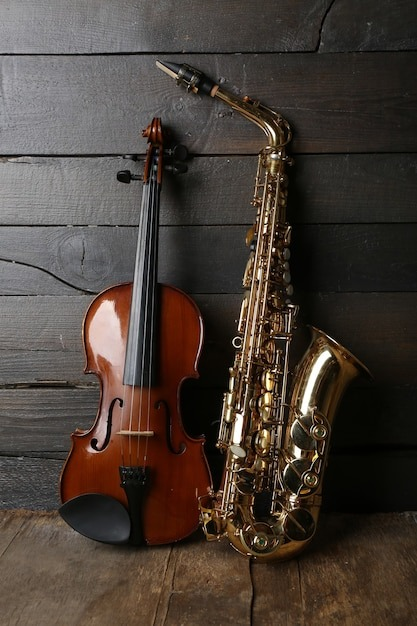Saxophone: (163, 22, 380, 576)
Violin: (52, 119, 240, 561)
